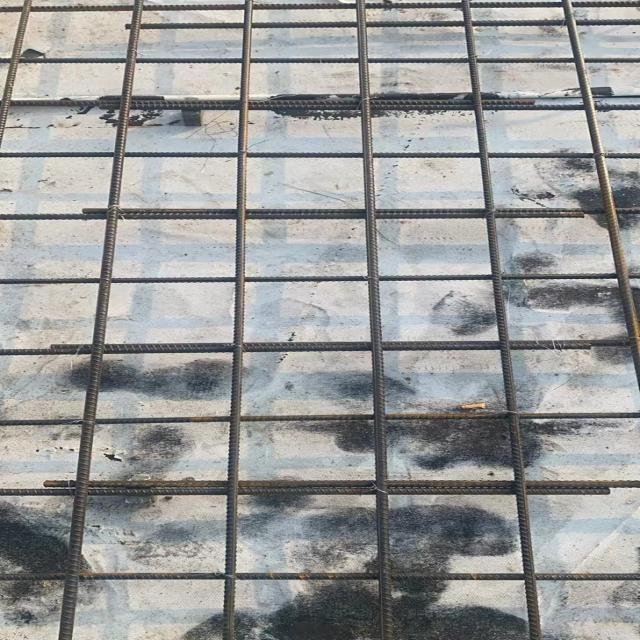ribbed bar: (56, 0, 143, 639), (461, 0, 542, 639), (560, 0, 638, 392), (355, 0, 396, 639), (221, 0, 255, 639), (0, 338, 638, 354), (0, 480, 638, 495), (0, 271, 638, 285), (0, 412, 638, 426), (0, 98, 638, 110), (0, 207, 638, 219), (0, 0, 638, 11), (0, 572, 638, 581), (126, 19, 638, 29), (0, 0, 34, 145), (0, 57, 638, 64), (0, 152, 638, 159)
